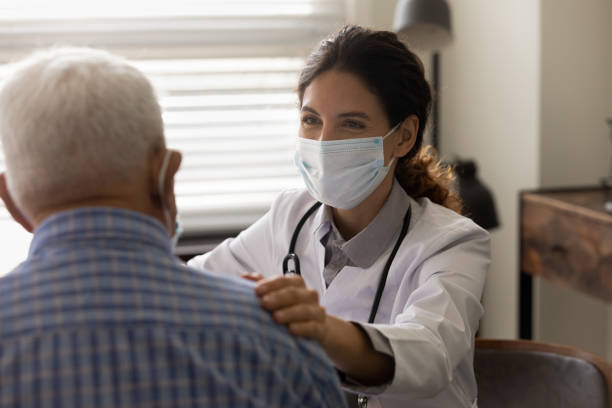with mask: (293, 68, 402, 212)
